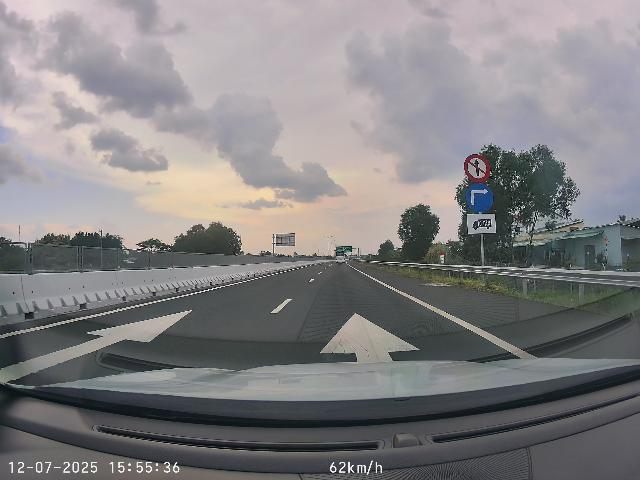136-cam-di-thang: (464, 154, 490, 182)
301d-cac-xe-chi-duoc-re-phai-2: (466, 183, 493, 212)
